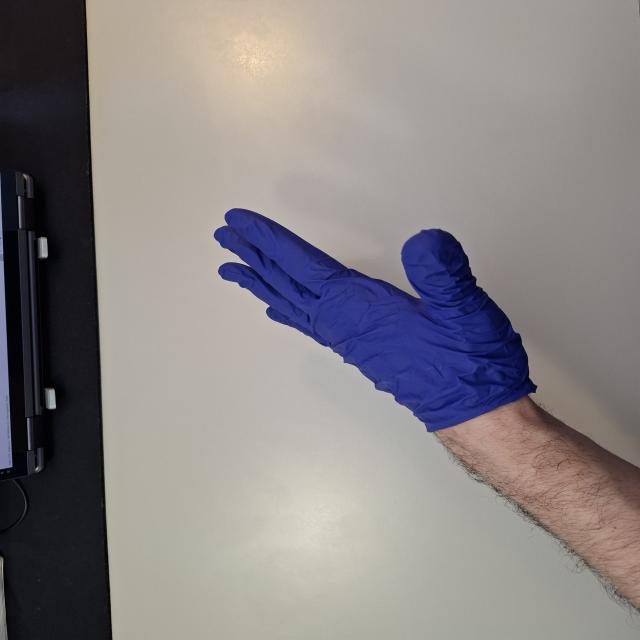glove_on: (211, 206, 547, 441)
